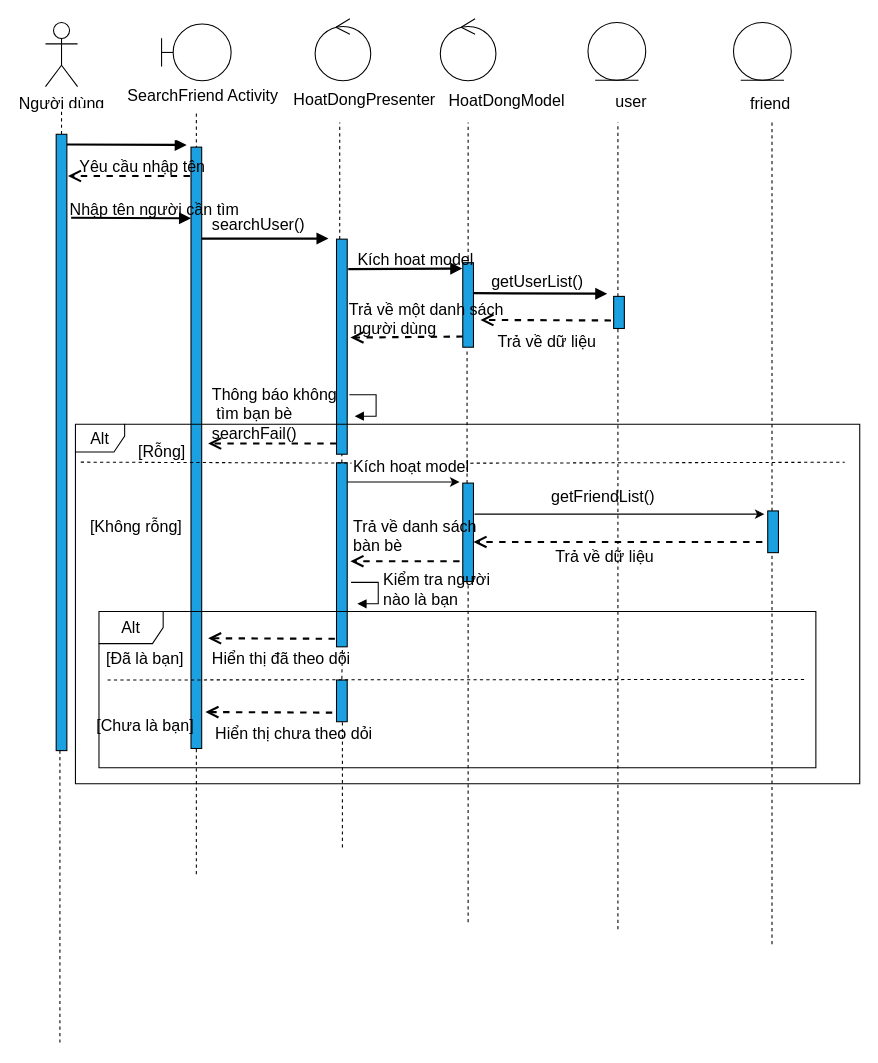
Some shapes in this 878 by 1063 pixel diagram are drawn without their labels. The box of each missing label's shape, as (x1, y1, x2, y2) in pixels:
Chọn chức năng tìm kiếm bạn bè: (65, 108, 225, 140)
Kiểm tra danh sách có rỗng hay không: (378, 387, 506, 419)
